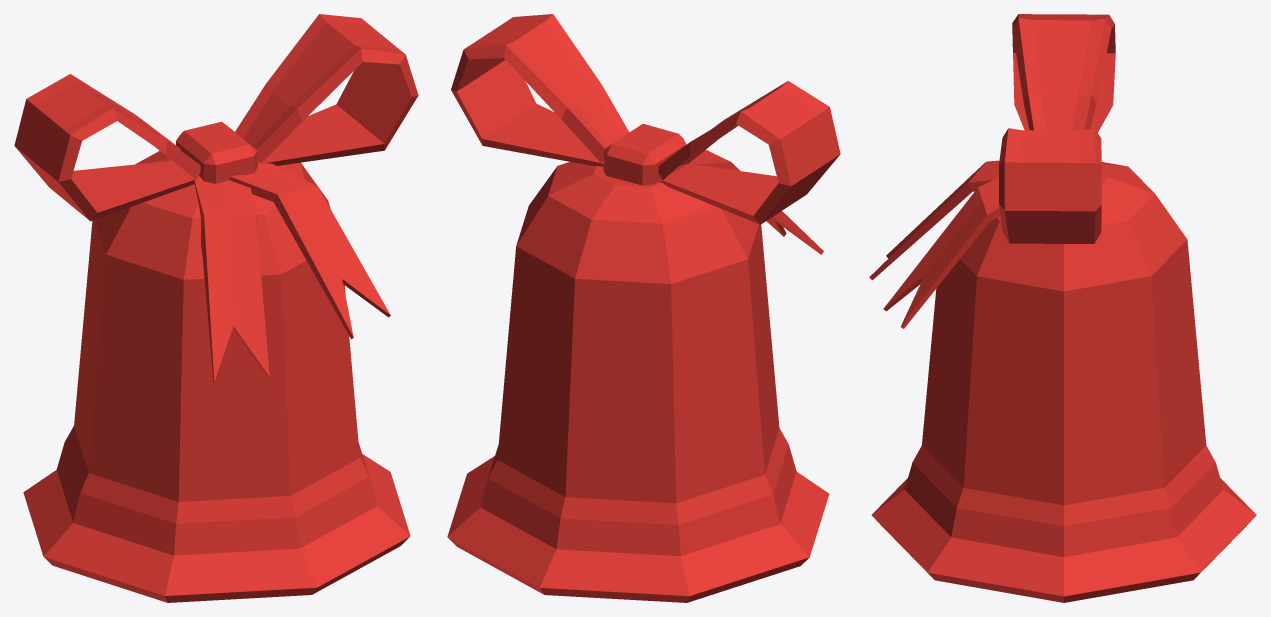
File: SM_Bell_B_Christmas.fbx
The picture shows the model from 3 angles, left to right: view 1: azimuth 30°, elevation 25°; view 2: azimuth 150°, elevation 25°; view 3: azimuth 270°, elevation 25°; orthographic projection. The views are drawn at different scales.
Visible parts, largest first — view 1: bell-b-christmas; view 2: bell-b-christmas; view 3: bell-b-christmas.
Boxes of the visible parts, box(x1,y1,x2,y2) form: bell-b-christmas: box(14, 14, 418, 602); bell-b-christmas: box(447, 14, 840, 602); bell-b-christmas: box(869, 14, 1256, 602).
Bounding box in the file's own units: 0.1411 × 0.1785 × 0.1386.
